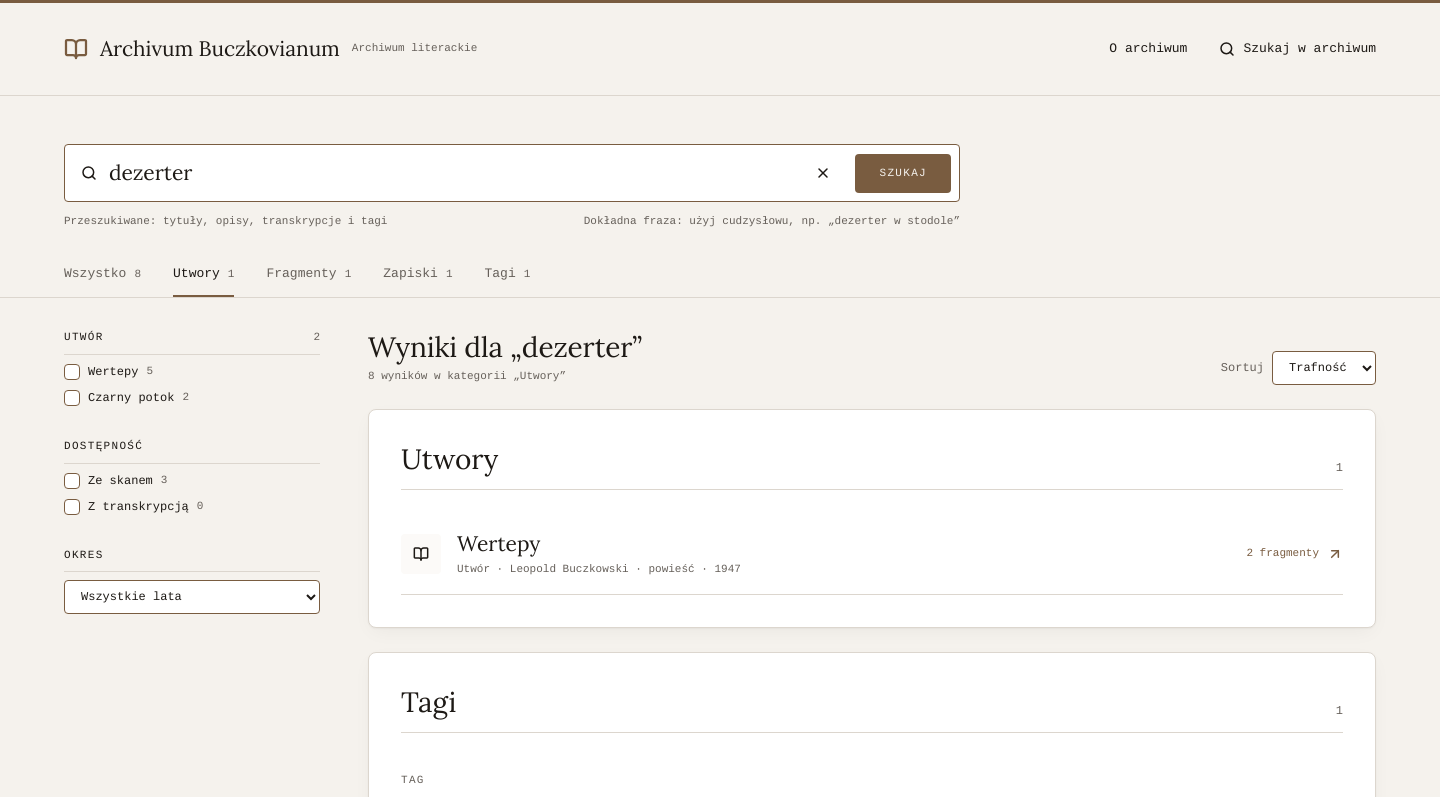
SearchPage tabs and filters › US-RA-16 AC5: clearing the field keeps the tab and lists everything in it
Expected: the text "8 wyników w kategorii „Utwory”" is shown, [368,370,566,382]
Click the button named "Wyczyść".
click(824, 173)  # box [804,153,844,193]
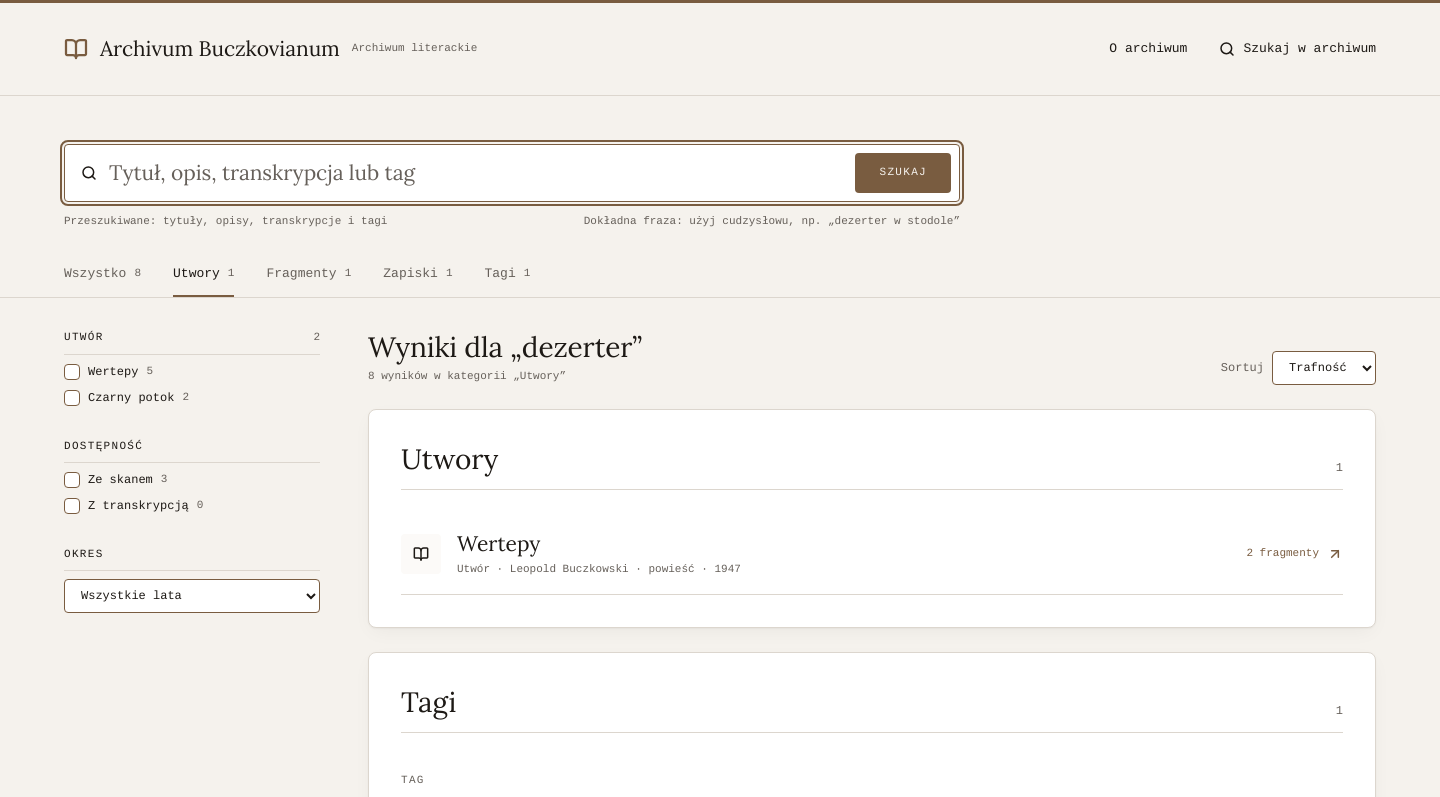
Submit the form named "Wyszukiwanie", box [64,144,960,202]
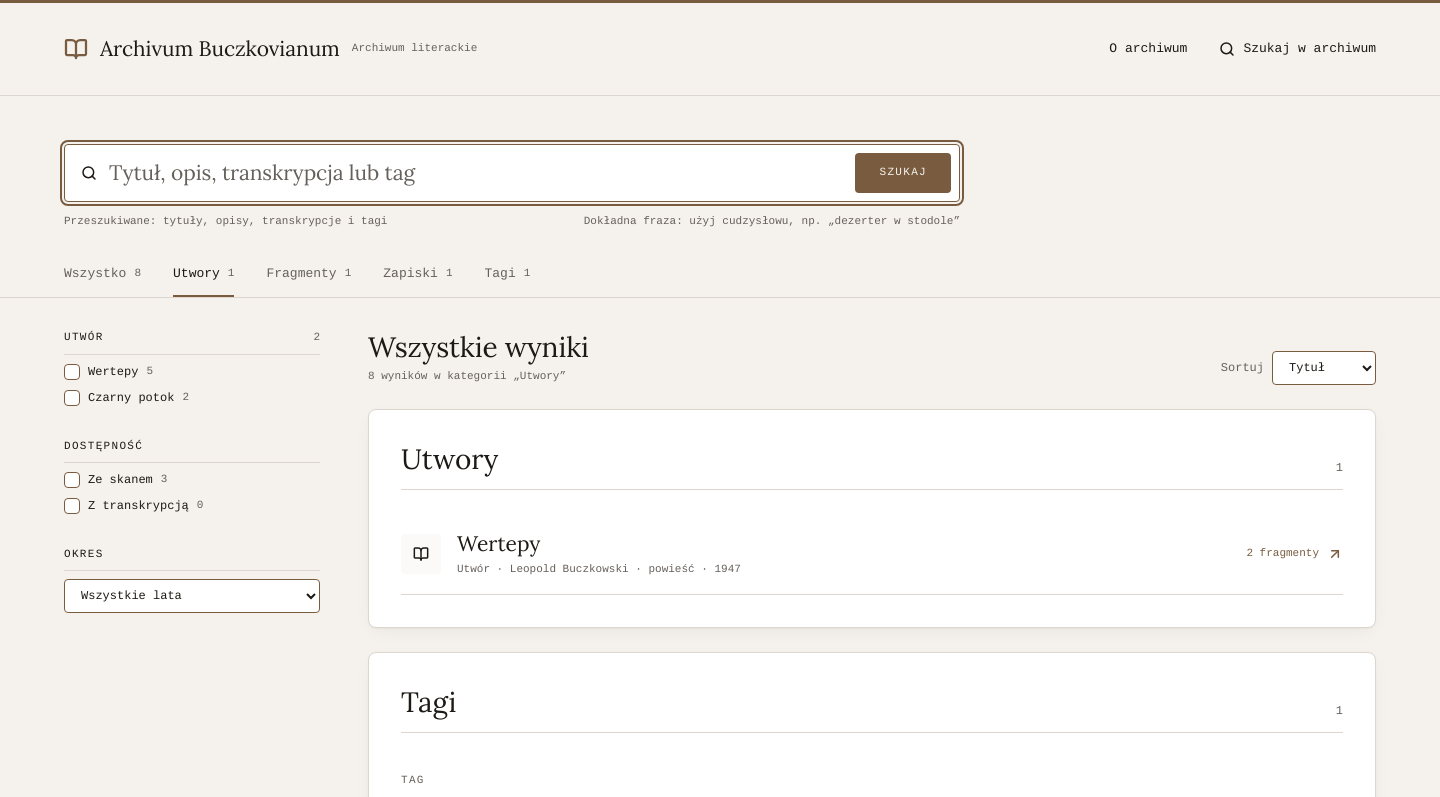
Expected: the heading "Wszystkie wyniki" is shown, [368,330,589,365]
